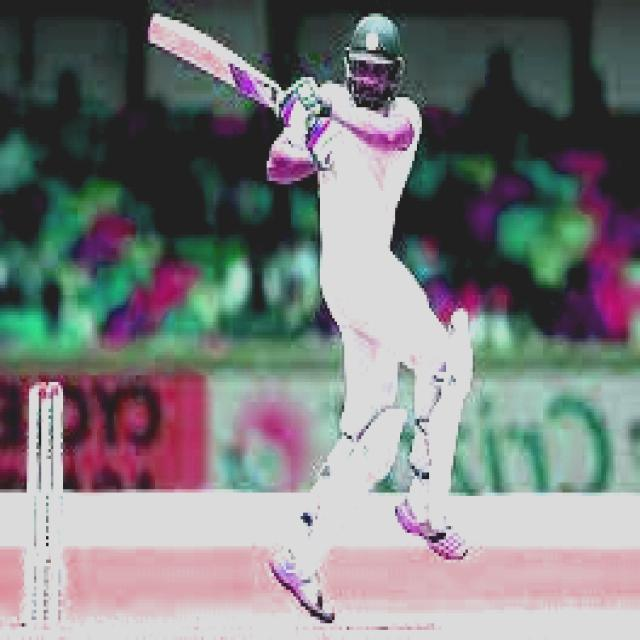toe: (148, 12, 172, 52)
